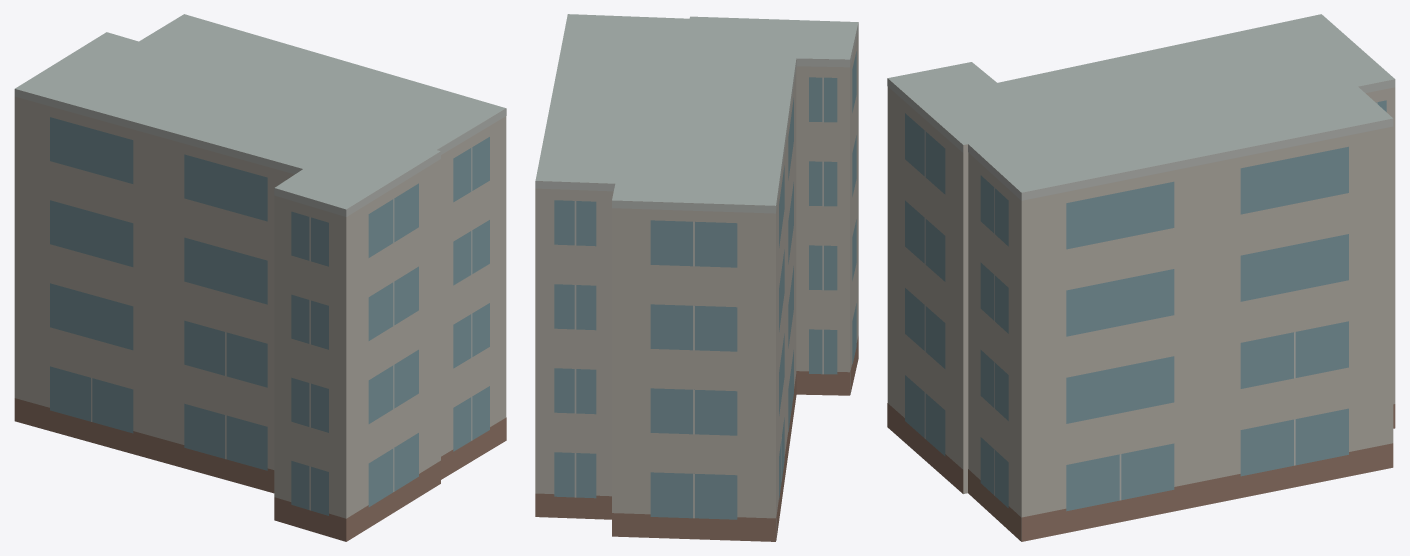
The model's file is survey-upis-32544340.glb.
3 renders of one model, left to right at view 1: azimuth 30°, elevation 25°; view 2: azimuth 150°, elevation 25°; view 3: azimuth 270°, elevation 25°, orthographic. The views are drawn at different scales.
Parts seen in each view (by area): view 1: survey-upis-32544340.tmp; view 2: survey-upis-32544340.tmp; view 3: survey-upis-32544340.tmp.
Part boxes in pixels (bbox=[...]): survey-upis-32544340.tmp: bbox=[14, 14, 506, 541]; survey-upis-32544340.tmp: bbox=[535, 14, 858, 541]; survey-upis-32544340.tmp: bbox=[887, 14, 1395, 541].
Bounding box in the file's own units: 11.65 × 10.6 × 13.99.
